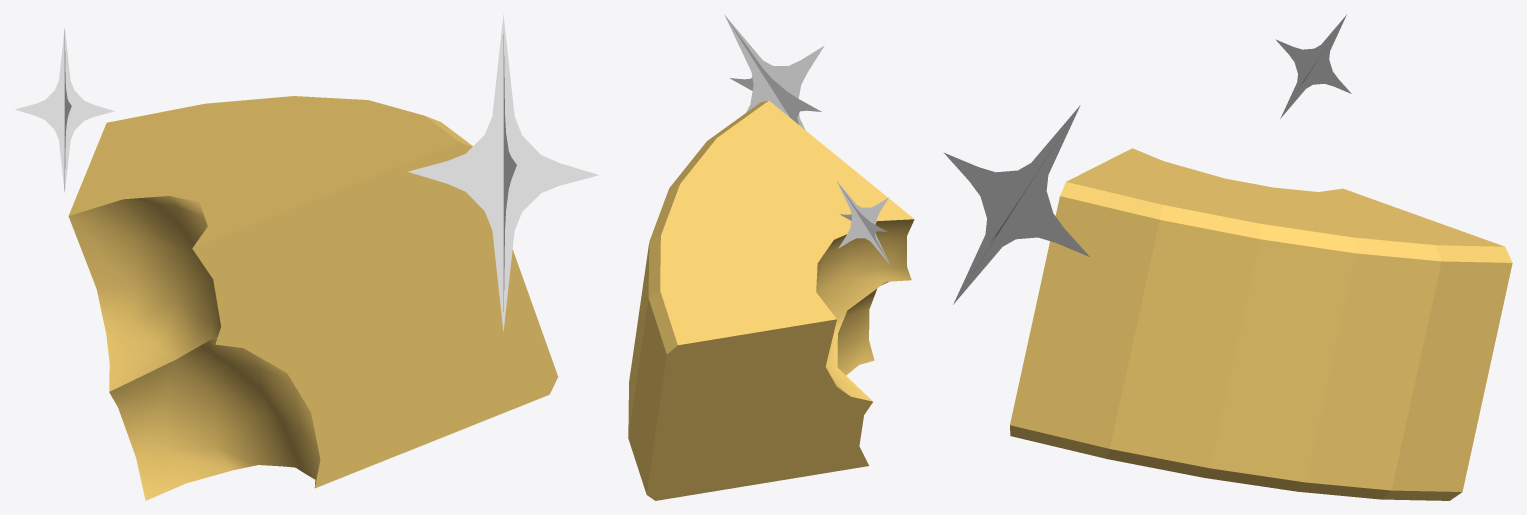
File: Fromage_State2.fbx
3 renders of one model, left to right at view 1: azimuth 30°, elevation 25°; view 2: azimuth 150°, elevation 25°; view 3: azimuth 270°, elevation 25°, orthographic. The views are drawn at different scales.
Parts seen in each view (by area): view 1: MainCheese_V2; view 2: MainCheese_V2; view 3: MainCheese_V2.
Boxes of the visible parts, x1,y1,x2,y2 form: MainCheese_V2: (15,14,598,500); MainCheese_V2: (628,15,914,500); MainCheese_V2: (943,14,1512,500).
Bounding box in the file's own units: 5.66 × 6.52 × 7.56.
